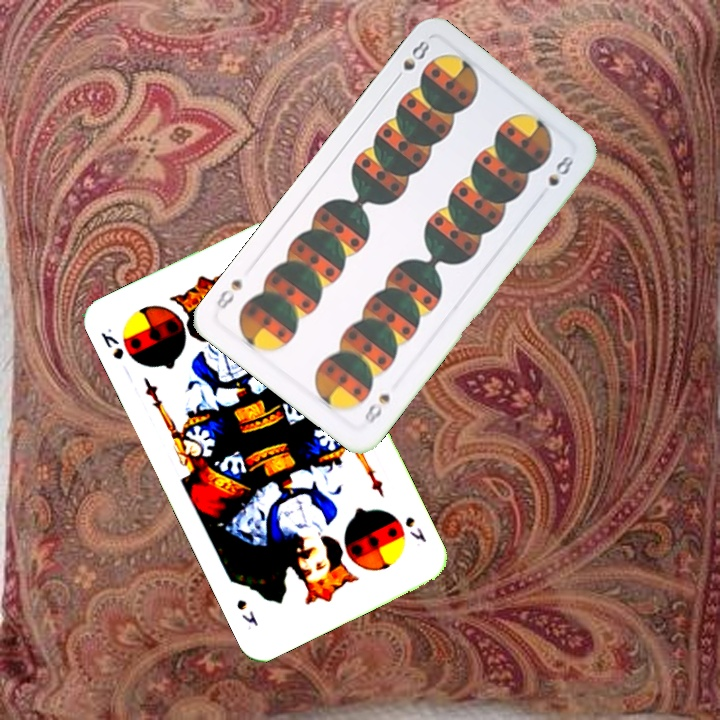S8: (389, 36, 432, 86), (360, 389, 393, 430)
SK: (96, 324, 126, 362), (400, 512, 429, 545)
